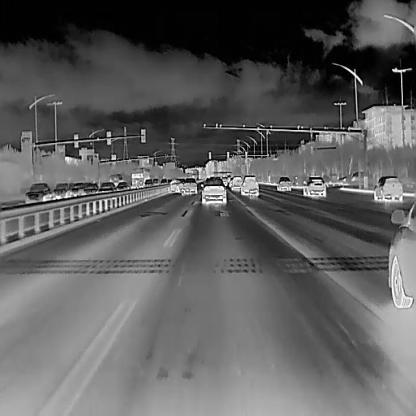car: (371, 173, 403, 201), (200, 175, 226, 205), (24, 181, 52, 205), (302, 176, 326, 199), (240, 173, 260, 195), (97, 180, 116, 200), (130, 167, 150, 186), (51, 181, 68, 198), (70, 180, 85, 199), (168, 177, 184, 194), (115, 180, 131, 196), (107, 173, 124, 188), (182, 177, 197, 194), (275, 175, 292, 190), (83, 181, 98, 197), (231, 176, 242, 190), (142, 177, 153, 189), (152, 176, 159, 186), (160, 177, 167, 186)
